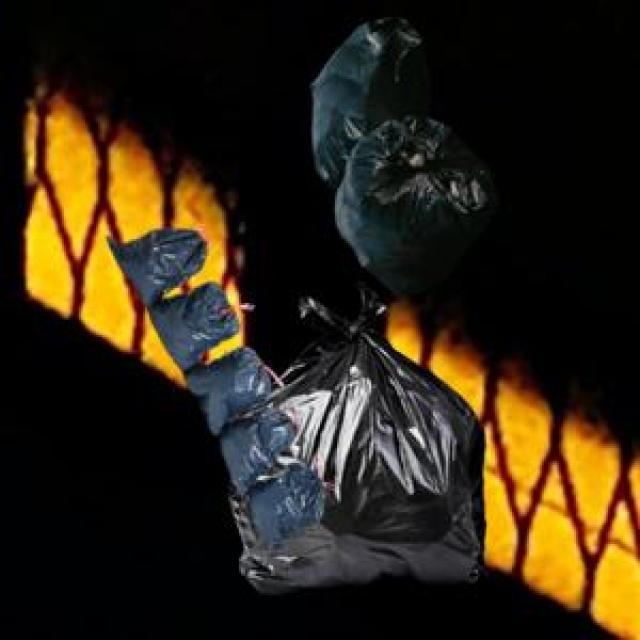Trashbag: (331, 118, 497, 295), (307, 17, 424, 145), (235, 473, 332, 546), (216, 404, 294, 481), (117, 226, 202, 296), (192, 348, 268, 423), (159, 287, 231, 358)
